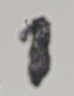microplastic: (18, 15, 53, 88)
